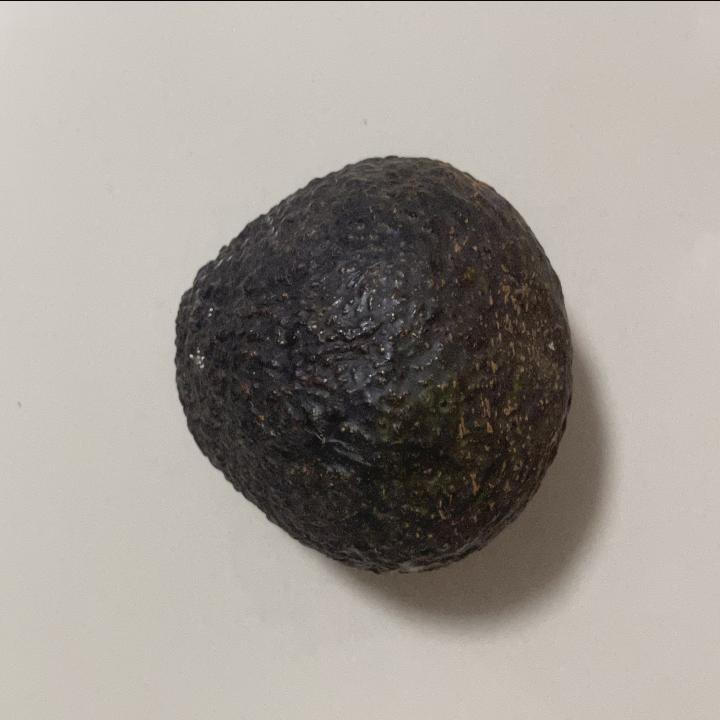Level2: (163, 139, 582, 586)
